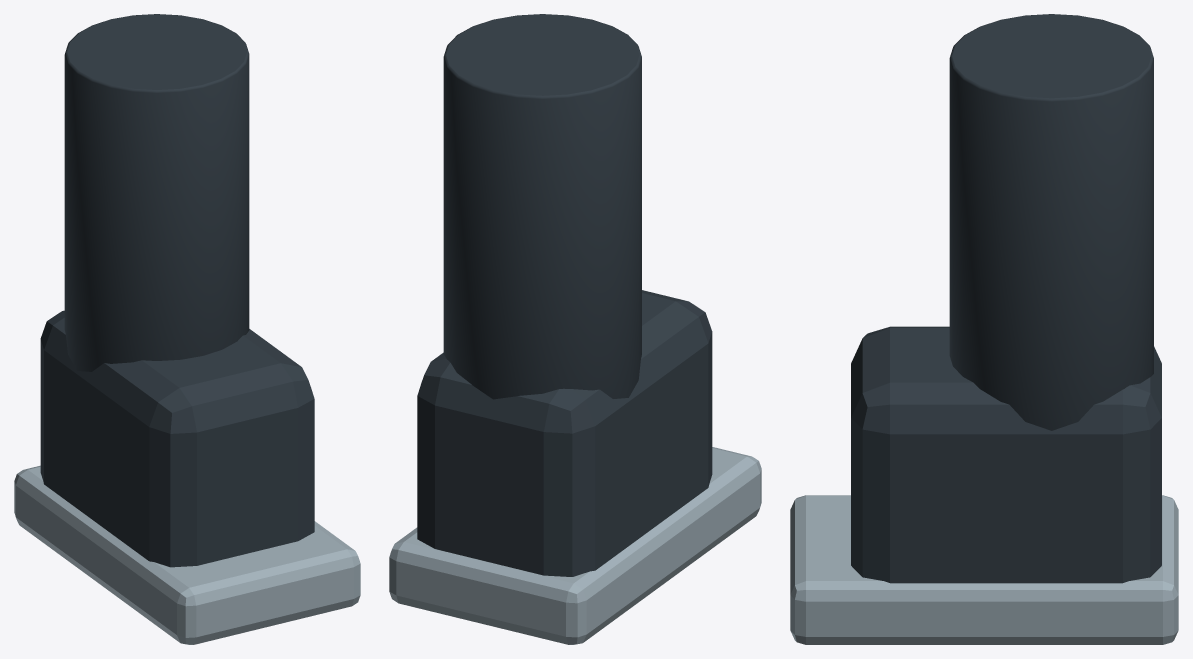
Rendered from boot-leg.glb.
The picture shows the model from 3 angles, left to right: view 1: azimuth 30°, elevation 25°; view 2: azimuth 150°, elevation 25°; view 3: azimuth 270°, elevation 25°; orthographic projection. The views are drawn at different scales.
Visible parts, largest first — view 1: Lower trouser, Boot upper, Boot sole; view 2: Lower trouser, Boot upper, Boot sole; view 3: Lower trouser, Boot upper, Boot sole.
Boxes of the visible parts, left/top/right/bottom form: Lower trouser: left=64, top=14, right=249, bottom=371; Boot upper: left=40, top=310, right=314, bottom=567; Boot sole: left=14, top=465, right=360, bottom=644; Lower trouser: left=443, top=14, right=641, bottom=399; Boot upper: left=417, top=290, right=712, bottom=576; Boot sole: left=389, top=447, right=761, bottom=644; Lower trouser: left=949, top=14, right=1153, bottom=430; Boot upper: left=851, top=326, right=1161, bottom=583; Boot sole: left=790, top=495, right=1178, bottom=644.
Size of the model in its own units: 0.18 by 0.465 by 0.3.
